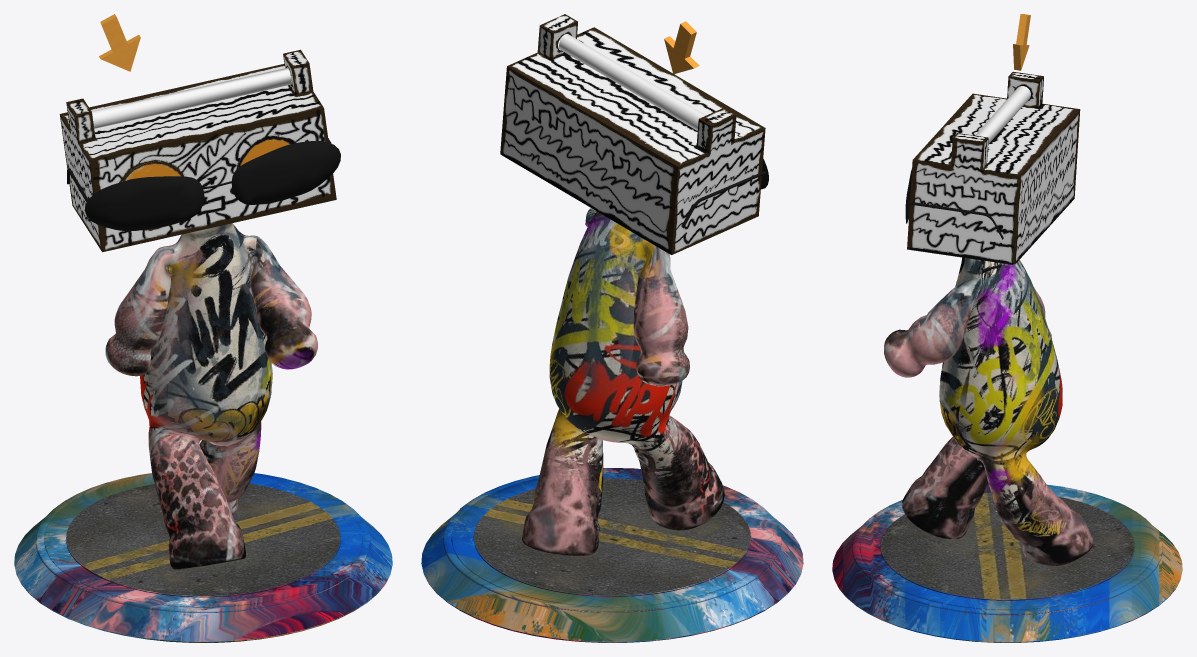
3 views of the same model, side by side, from view 1: azimuth 30°, elevation 25°; view 2: azimuth 150°, elevation 25°; view 3: azimuth 270°, elevation 25° (orthographic). The views are drawn at different scales.
Size of the model in its own units: 1.45 by 2.37 by 1.45.
Materials: 6 (5 with a texture image).
